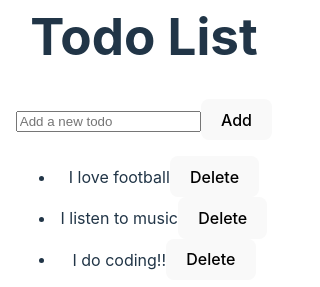
it: TodoList › deletes a todo
Step 1. Click the button "Delete" next to "I love football" → x=214, y=177, box [170,156,259,198]
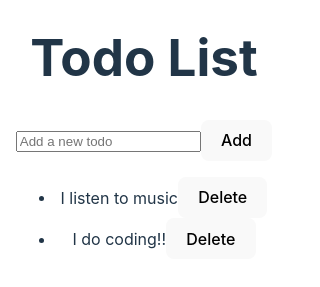
Result: the text "I love football" is gone
